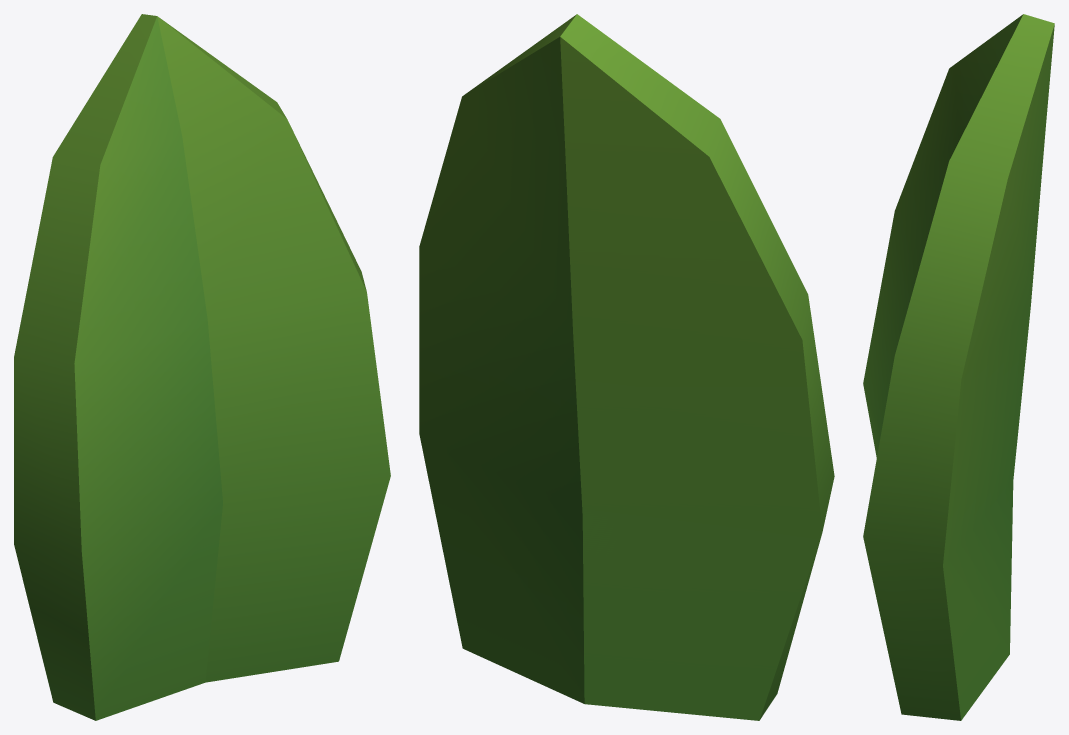
Rendered from Grass_1_A.glb.
3 renders of one model, left to right at view 1: azimuth 30°, elevation 25°; view 2: azimuth 150°, elevation 25°; view 3: azimuth 270°, elevation 25°, orthographic. The views are drawn at different scales.
Size of the model in its own units: 0.3393 by 0.5593 by 0.1518.
